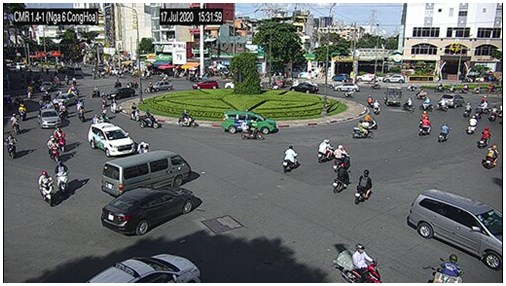xe_hoi: (407, 188, 501, 270), (102, 188, 196, 234), (80, 254, 201, 282), (88, 123, 134, 157), (220, 110, 277, 133), (441, 92, 467, 109), (38, 109, 59, 128), (52, 93, 76, 106), (289, 82, 317, 93), (108, 87, 135, 98), (192, 80, 219, 89), (153, 79, 172, 91), (334, 82, 359, 91), (382, 72, 403, 82), (358, 72, 378, 82), (331, 73, 348, 80), (225, 80, 233, 89)
xe_khach: (101, 150, 194, 194)
xe_may: (336, 244, 385, 282), (433, 255, 464, 282), (354, 168, 373, 205), (277, 144, 300, 173), (330, 162, 351, 193), (38, 170, 54, 207), (239, 119, 265, 141), (333, 143, 350, 172), (54, 160, 68, 192), (352, 119, 375, 138), (140, 109, 161, 129), (318, 138, 335, 162), (483, 144, 498, 170), (53, 127, 67, 153), (177, 109, 196, 128), (437, 122, 452, 143), (48, 135, 59, 162), (361, 112, 378, 129), (6, 134, 18, 158), (417, 117, 432, 136), (479, 127, 491, 148), (418, 96, 433, 110), (467, 116, 477, 135), (435, 98, 448, 112), (18, 104, 28, 122), (475, 101, 490, 113), (130, 103, 139, 122), (11, 112, 19, 133), (403, 96, 414, 111), (77, 104, 87, 120), (418, 110, 427, 125), (99, 109, 111, 120), (369, 80, 381, 91), (372, 98, 380, 114), (416, 89, 427, 100), (140, 140, 149, 153), (463, 102, 472, 115), (489, 105, 496, 121), (90, 86, 100, 97), (127, 77, 138, 87), (367, 93, 373, 106), (497, 105, 503, 118), (93, 115, 100, 125), (112, 79, 119, 86)
xe_tai: (384, 84, 402, 108)
